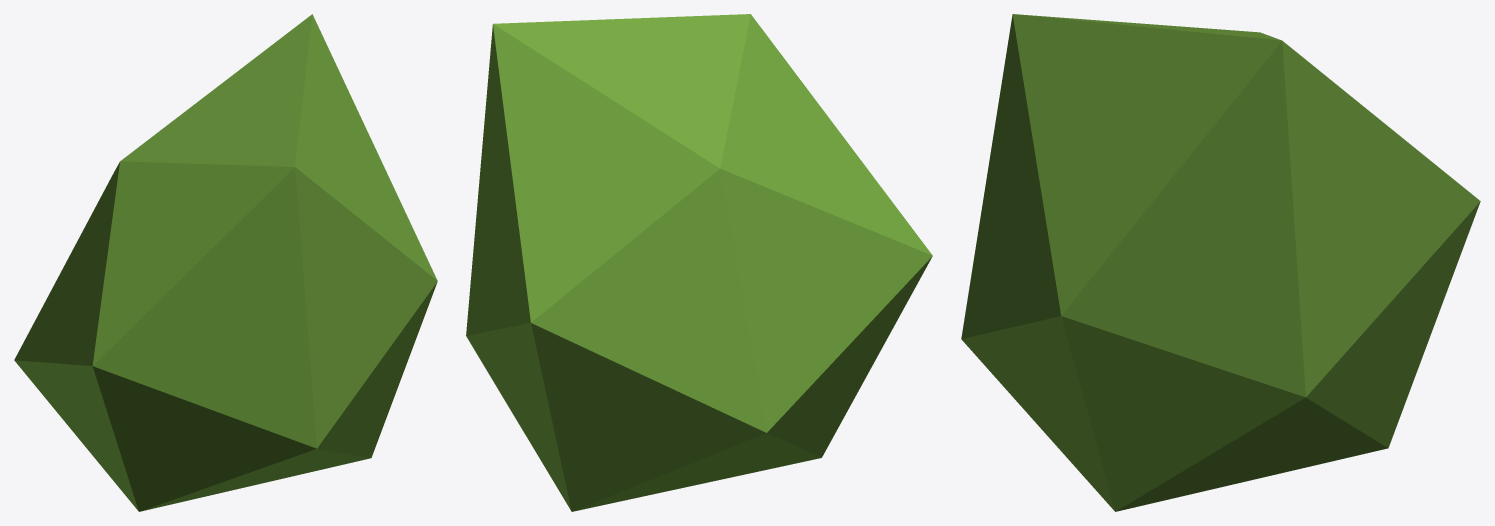
File: shrub_b_lod2.glb
3 renders of one model, left to right at view 1: azimuth 30°, elevation 25°; view 2: azimuth 150°, elevation 25°; view 3: azimuth 270°, elevation 25°, orthographic. The views are drawn at different scales.
Visible parts, largest first — view 1: shrub; view 2: shrub; view 3: shrub.
Boxes of the visible parts, x1,y1,x2,y2 form: shrub: (14,14,437,511); shrub: (466,14,932,511); shrub: (961,14,1480,511).
Bounding box in the file's own units: 1.85 × 1.99 × 1.96.
